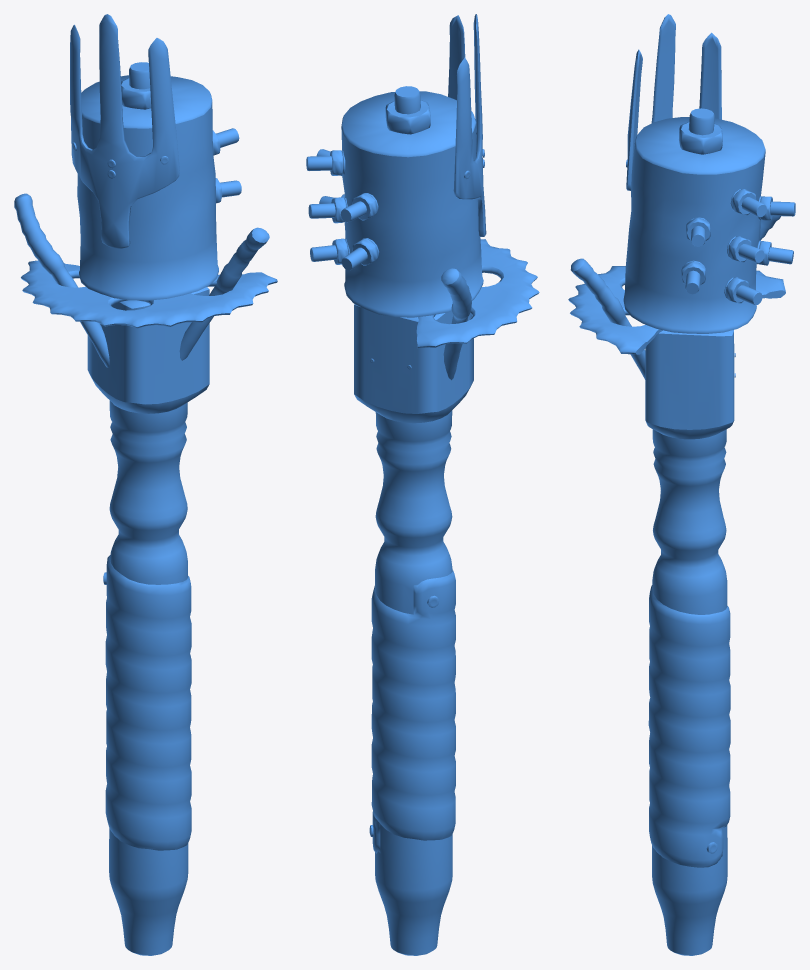
File: madcan.FBX.fbx
3 views of the same model, side by side, from view 1: azimuth 30°, elevation 25°; view 2: azimuth 150°, elevation 25°; view 3: azimuth 270°, elevation 25° (orthographic). The views are drawn at different scales.
Visible parts, largest first — view 1: MadCanFinal; view 2: MadCanFinal; view 3: MadCanFinal.
Part boxes in pixels (left/top/right/bottom): MadCanFinal: left=14, top=14, right=277, bottom=955; MadCanFinal: left=306, top=14, right=539, bottom=955; MadCanFinal: left=568, top=14, right=795, bottom=955.
Bounding box in the file's own units: 61.76 × 277 × 62.84.
